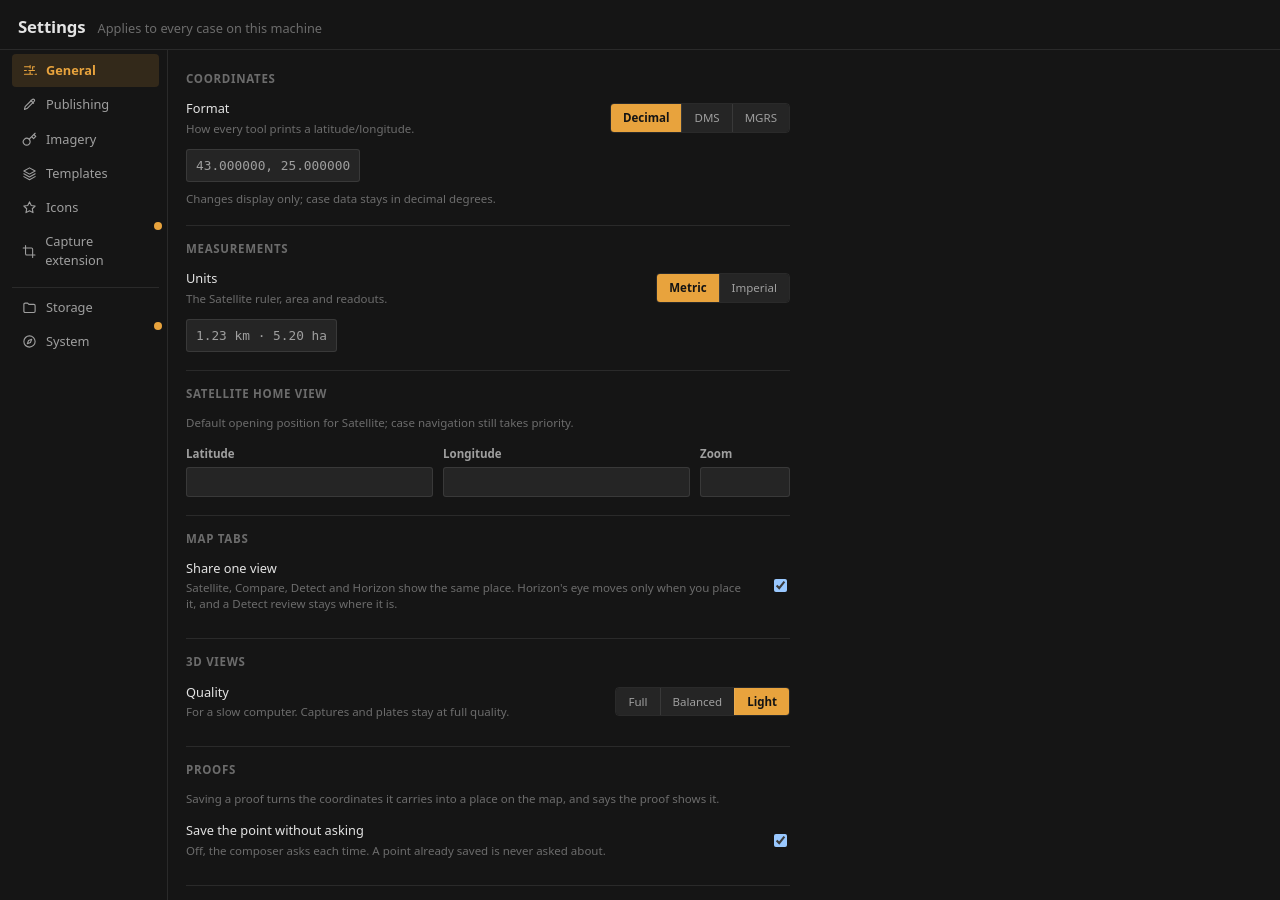
Test: each section › Publishing states the mention and signature controls
This screenshot has width=1280, height=900.
Step 1. Click the button with class "rail-tab" showing "Publishing" → (86, 105), box 12,88 -> 159,122
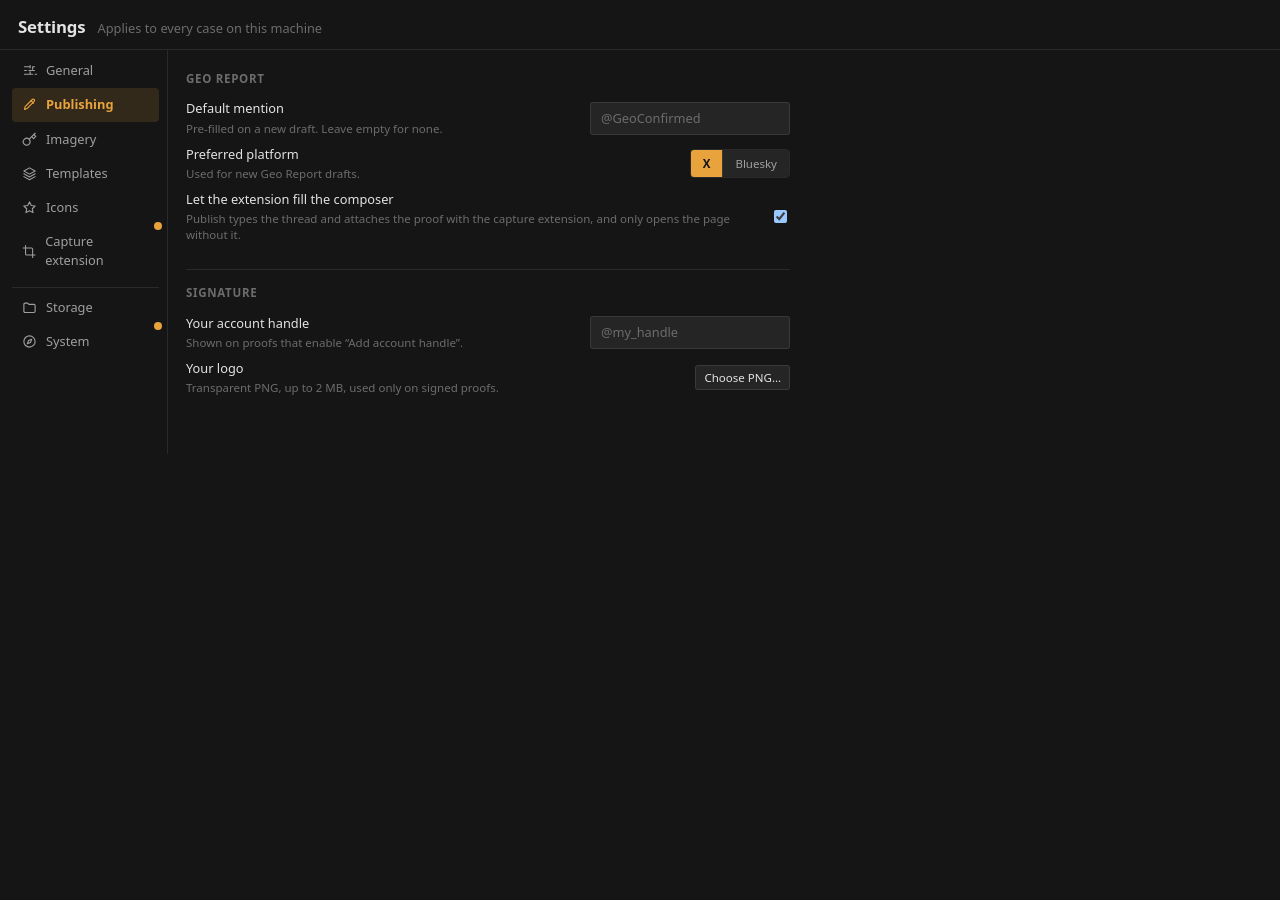
Now the element that starts with "Geo Report" is shown, box 186,71 -> 265,86
Now the element that starts with "Geo Report" shows "Signature", box 186,286 -> 257,300
